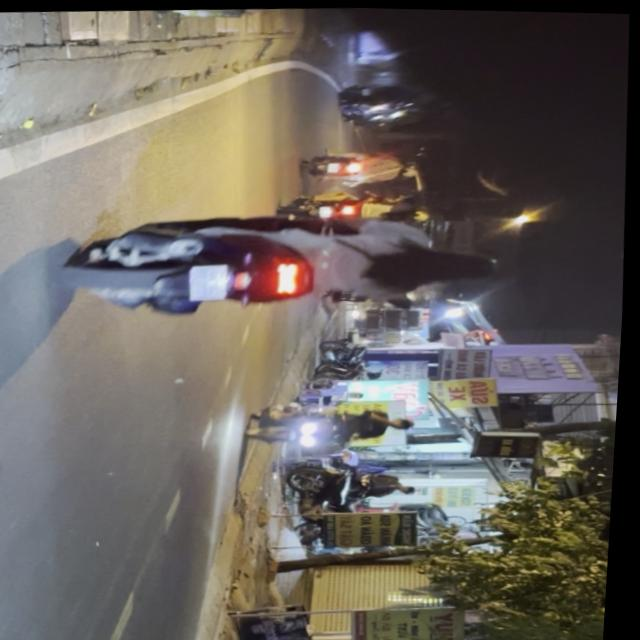licenseplate: (55, 196, 517, 326)
motorcyclist: (416, 244, 501, 284)
nohelmet: (193, 263, 233, 300)
